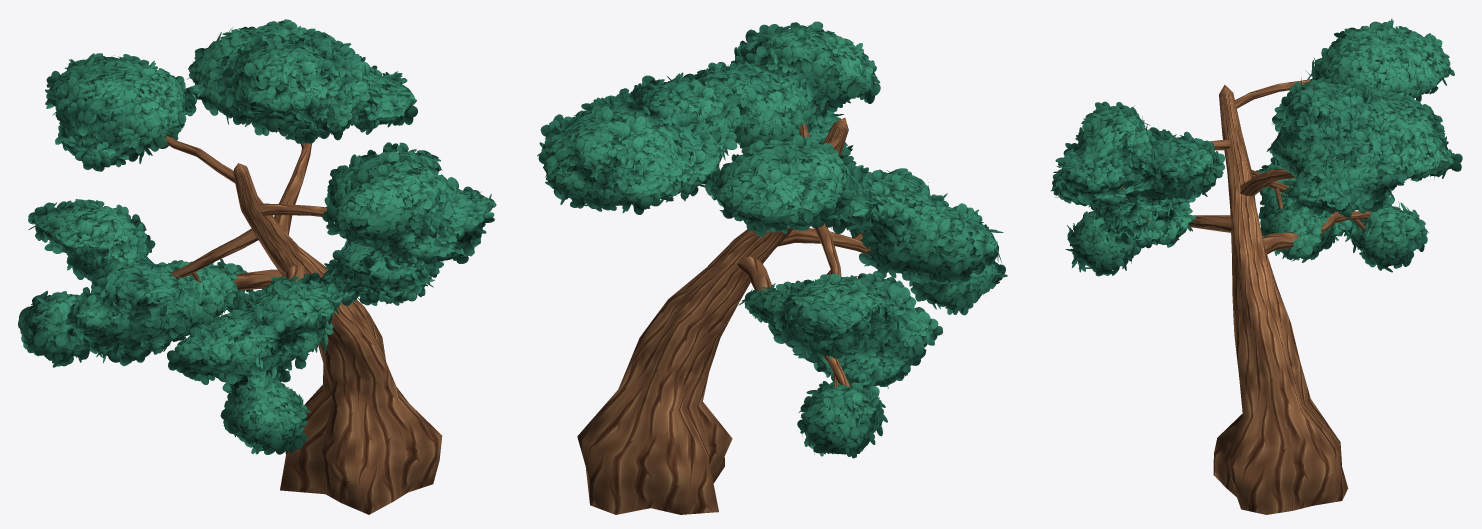
File: jpine_v2.gltf
3 renders of one model, left to right at view 1: azimuth 30°, elevation 25°; view 2: azimuth 150°, elevation 25°; view 3: azimuth 270°, elevation 25°, orthographic. The views are drawn at different scales.
Visible parts, largest first — view 1: jpine_v2_leaves_LOD0, jpine_v2_volume_LOD0, jpine_v2_trunk_LOD0; view 2: jpine_v2_leaves_LOD0, jpine_v2_volume_LOD0, jpine_v2_trunk_LOD0; view 3: jpine_v2_leaves_LOD0, jpine_v2_trunk_LOD0, jpine_v2_volume_LOD0.
Part boxes in pixels (left/top/right/bottom): jpine_v2_leaves_LOD0: left=18, top=19, right=496, bottom=454; jpine_v2_volume_LOD0: left=20, top=25, right=489, bottom=445; jpine_v2_trunk_LOD0: left=165, top=131, right=442, bottom=514; jpine_v2_leaves_LOD0: left=537, top=21, right=1007, bottom=458; jpine_v2_volume_LOD0: left=543, top=28, right=998, bottom=454; jpine_v2_trunk_LOD0: left=577, top=117, right=870, bottom=514; jpine_v2_leaves_LOD0: left=1051, top=18, right=1462, bottom=276; jpine_v2_trunk_LOD0: left=1120, top=79, right=1370, bottom=514; jpine_v2_volume_LOD0: left=1058, top=29, right=1451, bottom=269.
Size of what is drawn, in the model's own units: 6.74 by 7.58 by 7.46.
3 materials, 3 textured.
